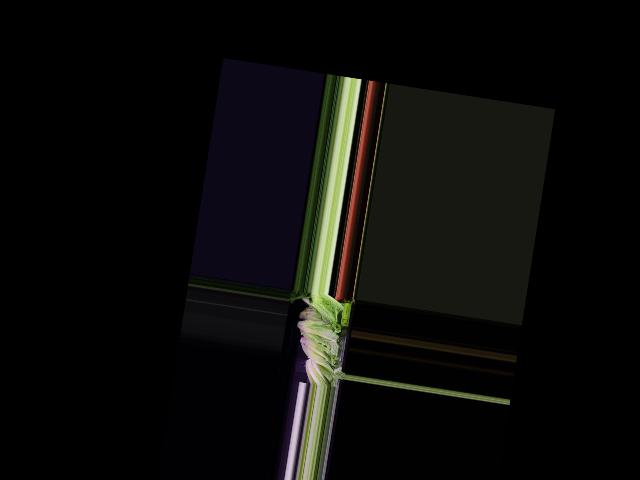lettuce: (301, 356, 334, 387)
